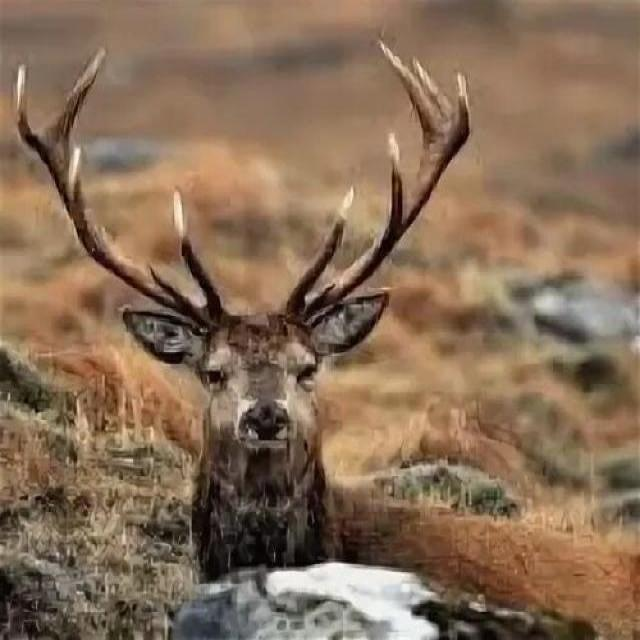deer: (0, 120, 494, 640)
